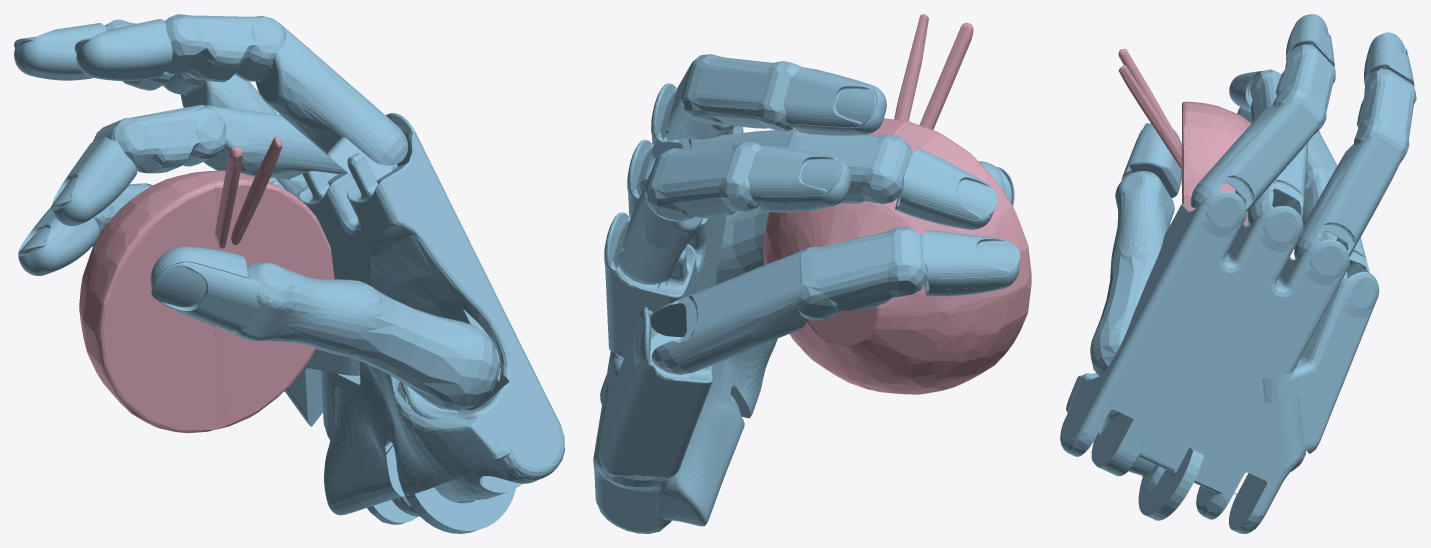
The picture shows the model from 3 angles, left to right: view 1: azimuth 30°, elevation 25°; view 2: azimuth 150°, elevation 25°; view 3: azimuth 270°, elevation 25°; orthographic projection. The views are drawn at different scales.
Visible parts, largest first — view 1: hand_isaac_q, world; view 2: hand_isaac_q, world; view 3: hand_isaac_q, world.
Boxes of the visible parts, left/top/right/bottom form: hand_isaac_q: left=14, top=14, right=564, bottom=533; world: left=79, top=137, right=334, bottom=433; hand_isaac_q: left=593, top=54, right=1020, bottom=533; world: left=763, top=14, right=1031, bottom=394; hand_isaac_q: left=1060, top=14, right=1416, bottom=533; world: left=1118, top=49, right=1251, bottom=225.
Size of the model in its own units: 0.1473 by 0.1654 by 0.1286.
